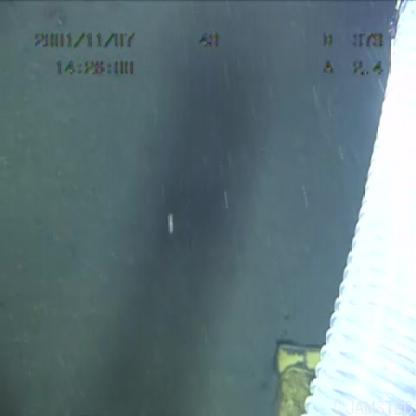Rov: (298, 2, 416, 415)
Rác: (269, 330, 329, 416)
